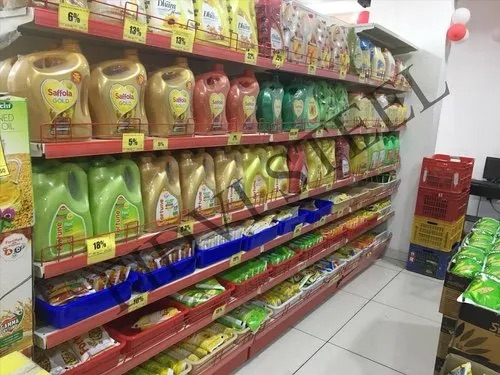other: (4, 36, 411, 175)
